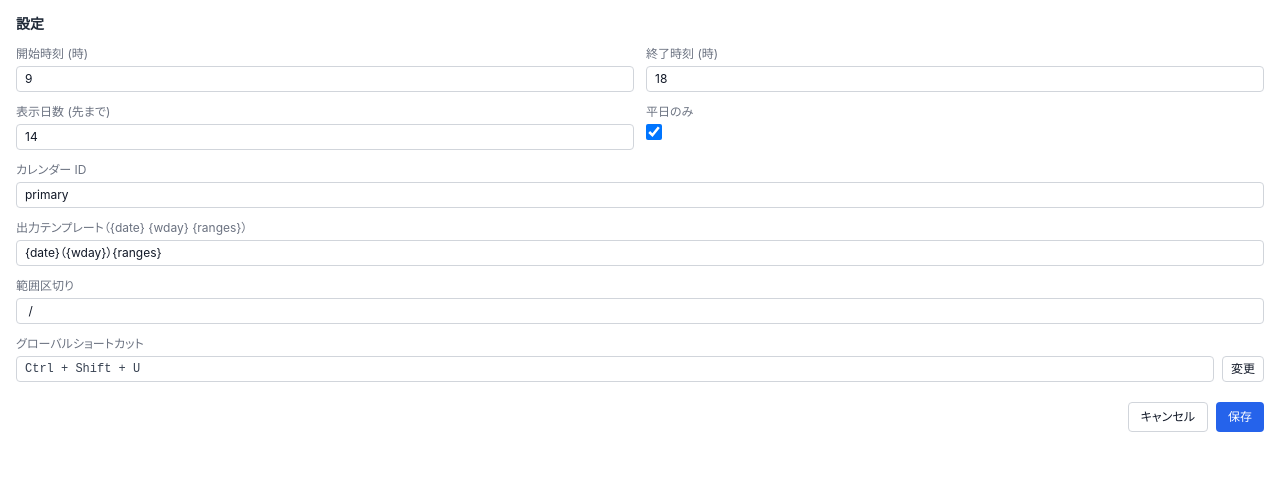
Test: SettingsPanel › 不正値 (endHour <= startHour) ではエラー表示し保存しない
The image size is (1280, 478).
Replace the text in the number field labelled "終了時刻 (時)" with "9" at (955, 79), box 646,66 -> 1264,92
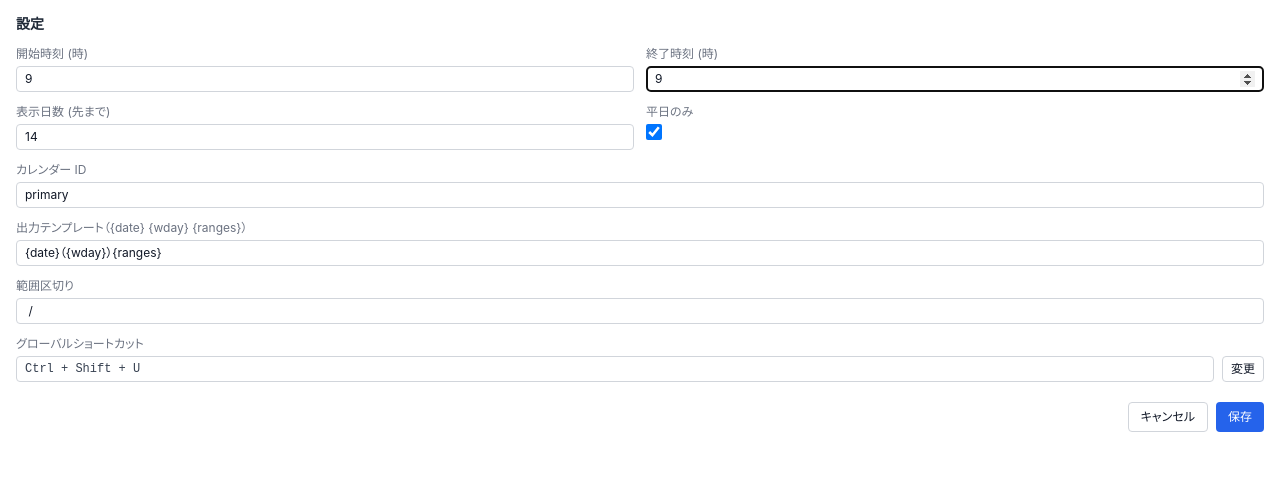
Click the button "保存" at (1240, 417), box 1216,402 -> 1264,432
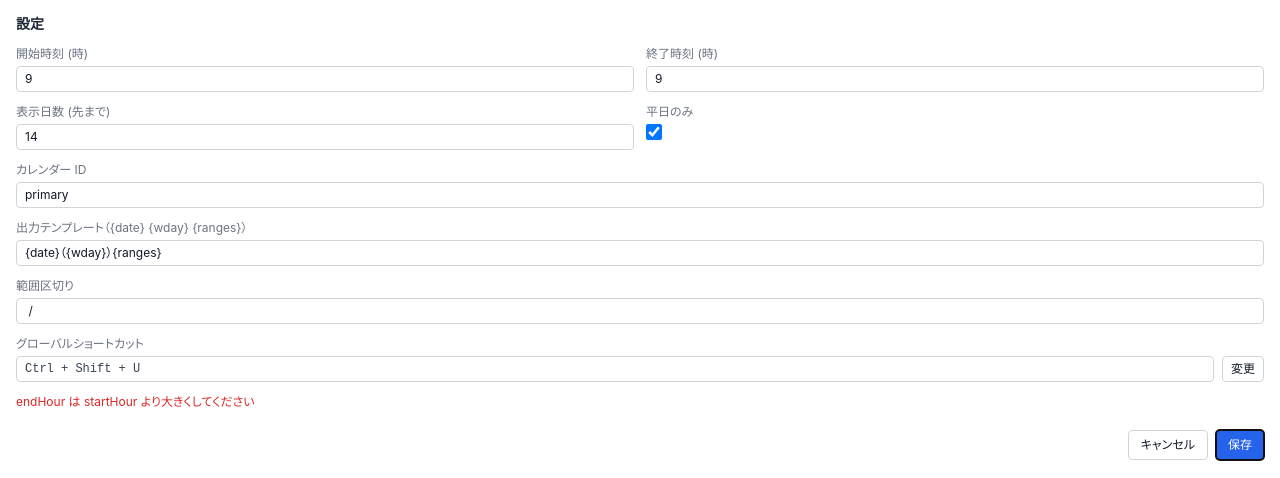
Now the text "endHour は startHour より大きくしてください" is shown, box 16,394 -> 254,409
